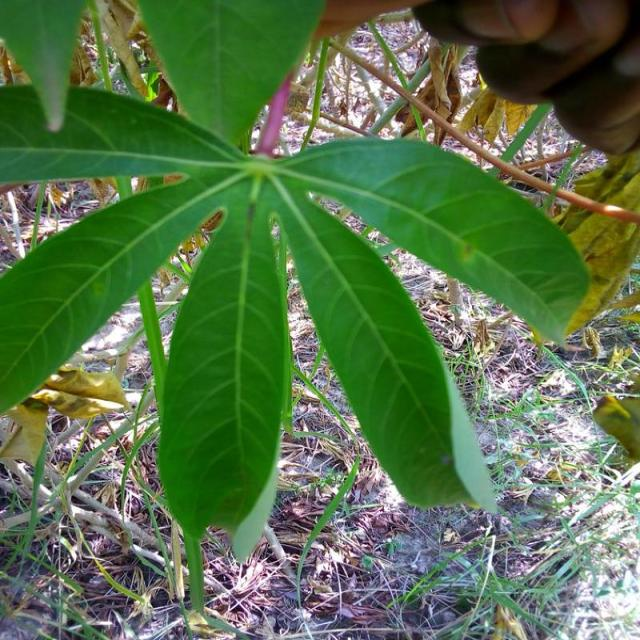cassava leaf: (1, 1, 592, 568), (269, 164, 501, 516), (271, 133, 593, 346), (158, 170, 294, 563), (136, 0, 327, 149)
